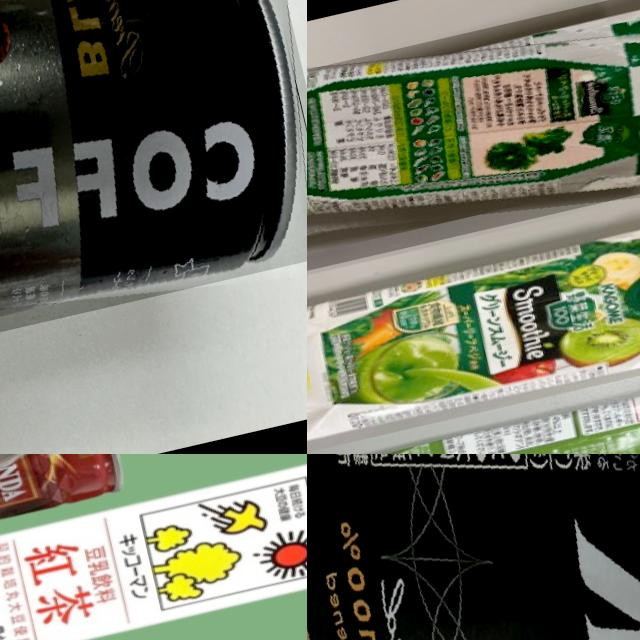Aluminium Foil: (307, 0, 640, 290), (307, 198, 640, 453), (0, 454, 307, 640), (307, 356, 640, 454)
Can: (0, 0, 307, 372), (307, 454, 640, 640), (0, 454, 130, 555)
